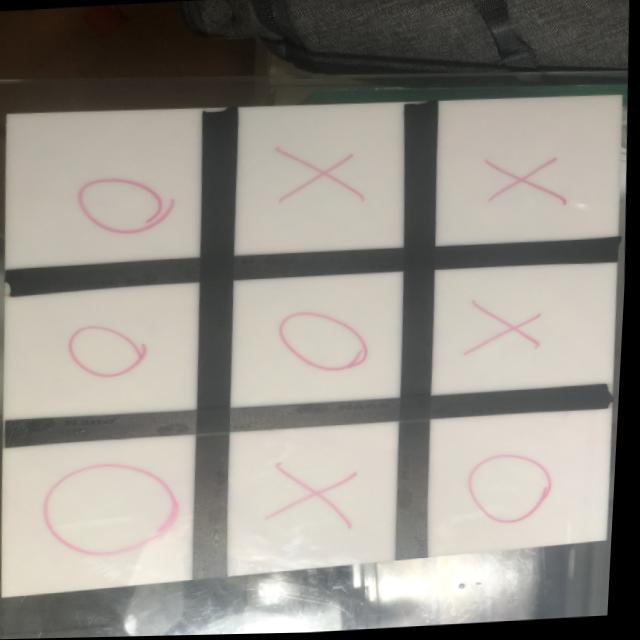o: (42, 462, 190, 560), (467, 448, 565, 530), (278, 301, 379, 378), (73, 170, 173, 244), (62, 321, 150, 382)
table: (0, 94, 625, 604)
x: (264, 459, 367, 536), (275, 137, 370, 215), (479, 149, 571, 211), (467, 300, 547, 364)
